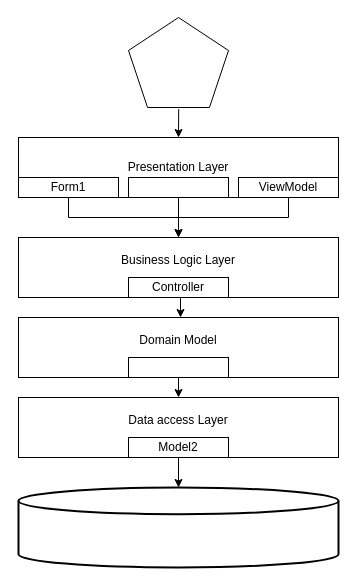
Image size: 356x586. Some labels were removed from this diagram. Here are the shapes that lost their labels. From the top down, the centre of each, then its label:
At pixel 178 62: "User".
At pixel 178 187: "View".
At pixel 178 367: "DomainModel".
At pixel 178 527: "Data Base MS SQL".
